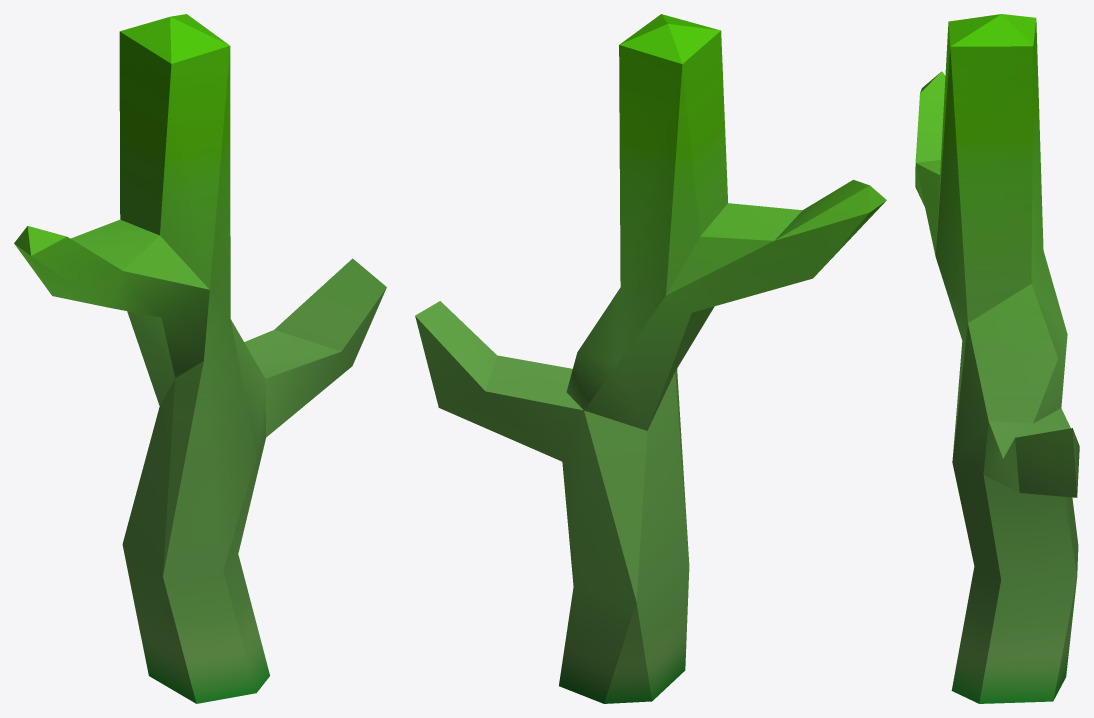
The model's file is kaktus.fbx.
3 renders of one model, left to right at view 1: azimuth 30°, elevation 25°; view 2: azimuth 150°, elevation 25°; view 3: azimuth 270°, elevation 25°, orthographic. The views are drawn at different scales.
Visible parts, largest first — view 1: EA04_Env_Plants_Cactus_01c_LOD2; view 2: EA04_Env_Plants_Cactus_01c_LOD2; view 3: EA04_Env_Plants_Cactus_01c_LOD2.
Boxes of the visible parts, x1,y1,x2,y2 form: EA04_Env_Plants_Cactus_01c_LOD2: (14, 14, 386, 703); EA04_Env_Plants_Cactus_01c_LOD2: (415, 14, 886, 703); EA04_Env_Plants_Cactus_01c_LOD2: (915, 14, 1079, 703).
Size of the model in its own units: 103 by 163 by 37.47.
